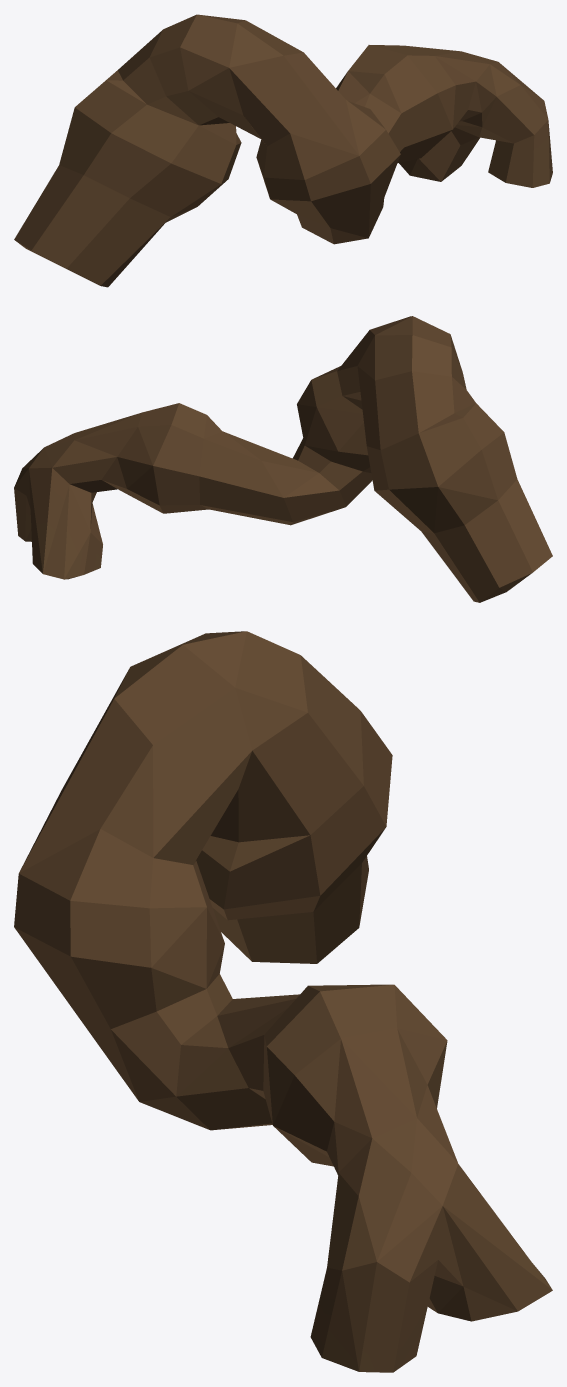
3 renders of one model, top to bottom at view 1: azimuth 30°, elevation 25°; view 2: azimuth 150°, elevation 25°; view 3: azimuth 270°, elevation 25°, orthographic. The views are drawn at different scales.
Parts seen in each view (by area): view 1: EM_Root2b_LOD0; view 2: EM_Root2b_LOD0; view 3: EM_Root2b_LOD0.
Boxes of the visible parts, left/top/right/bottom form: EM_Root2b_LOD0: left=14, top=14, right=552, bottom=287; EM_Root2b_LOD0: left=14, top=316, right=552, bottom=602; EM_Root2b_LOD0: left=14, top=631, right=552, bottom=1372.
Size of what is drawn, in the model's own units: 2.79 by 1.37 by 1.5.
